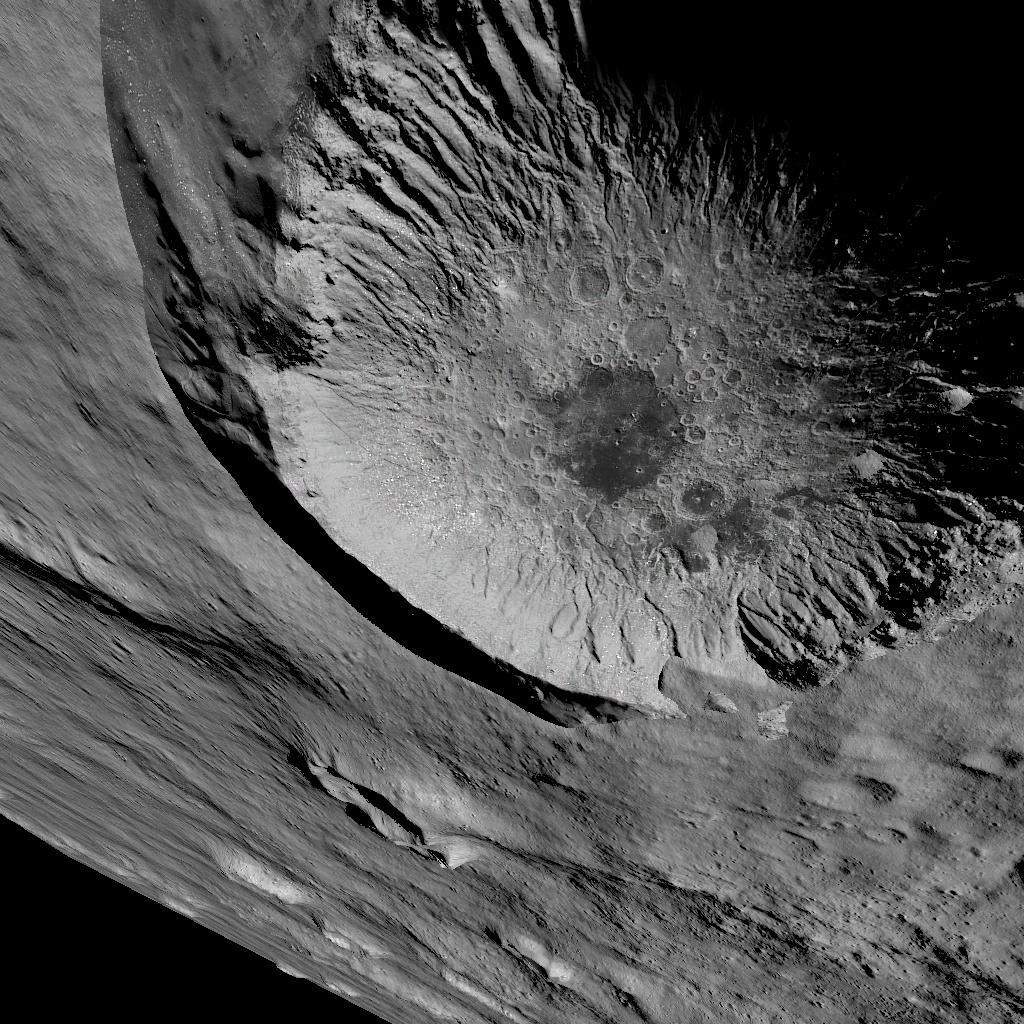Crater: (69, 0, 1024, 729), (268, 742, 448, 888)
Plan surface: (499, 766, 1024, 1024)
